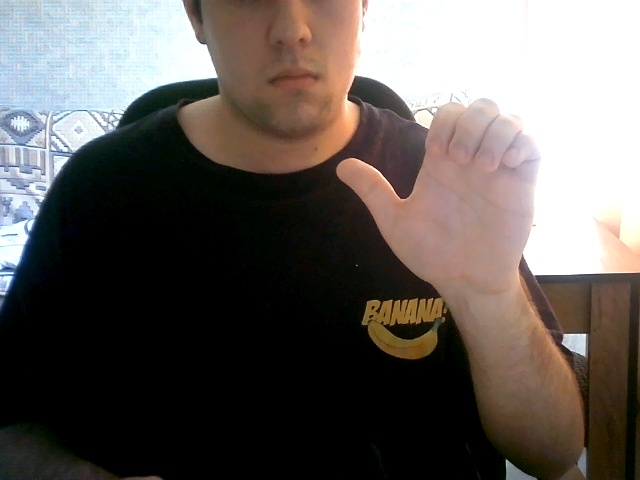goodbye: (326, 87, 590, 279)
